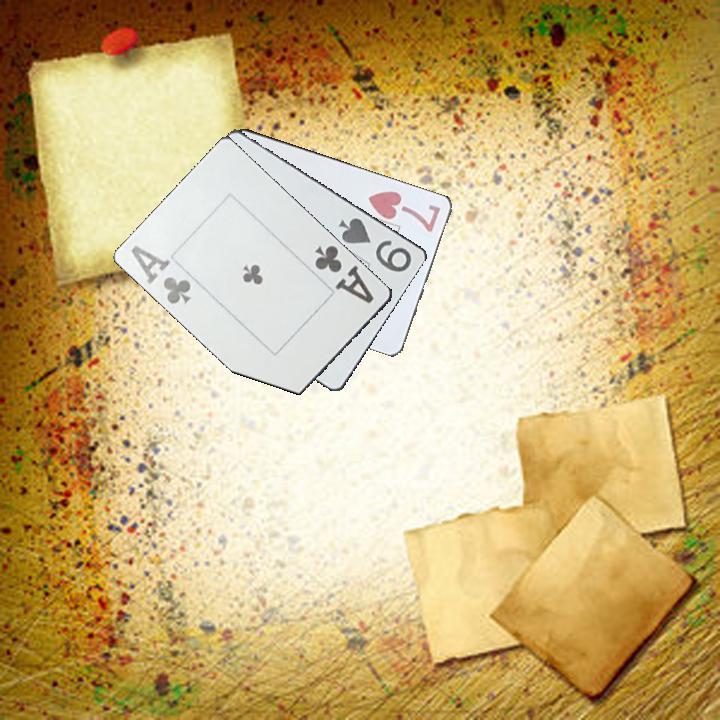7h: (365, 187, 444, 235)
9s: (335, 214, 415, 275)
Ac: (311, 240, 377, 306), (128, 242, 195, 307)
